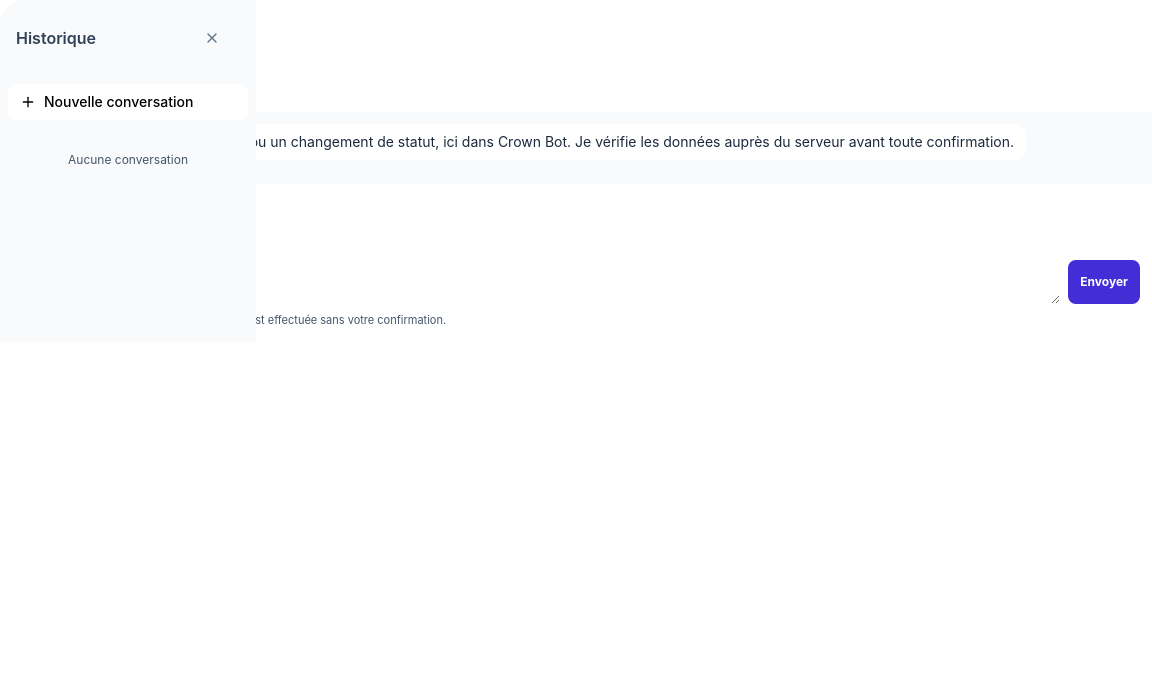
Test: CrownBot G9 reachable interaction truth › G5 appears in the ACTUAL CrownBotChat only when all four opt-ins are present
Type "Prépare un RDV demain 10h pour Mme Benali contrôle" into the text box named "Votre message à Crown Bot". click: (536, 276)
box: x1=12 y1=248 x2=1060 y2=304
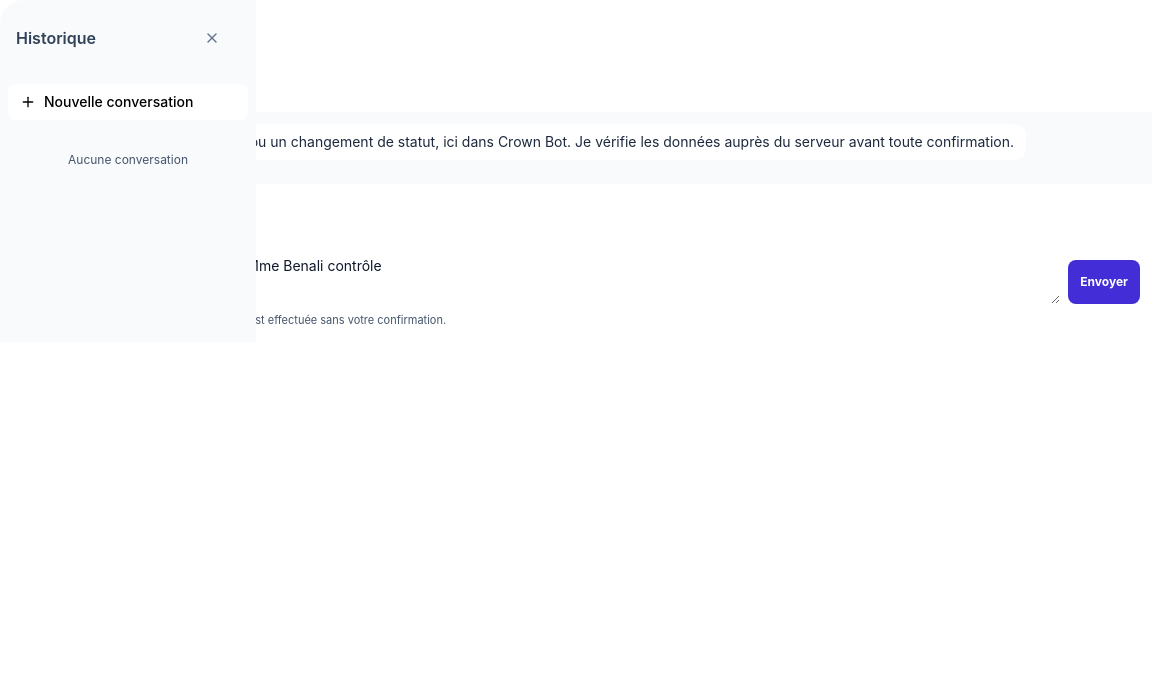
Click the button "Envoyer". click: (1104, 282)
box: x1=1068 y1=260 x2=1140 y2=304
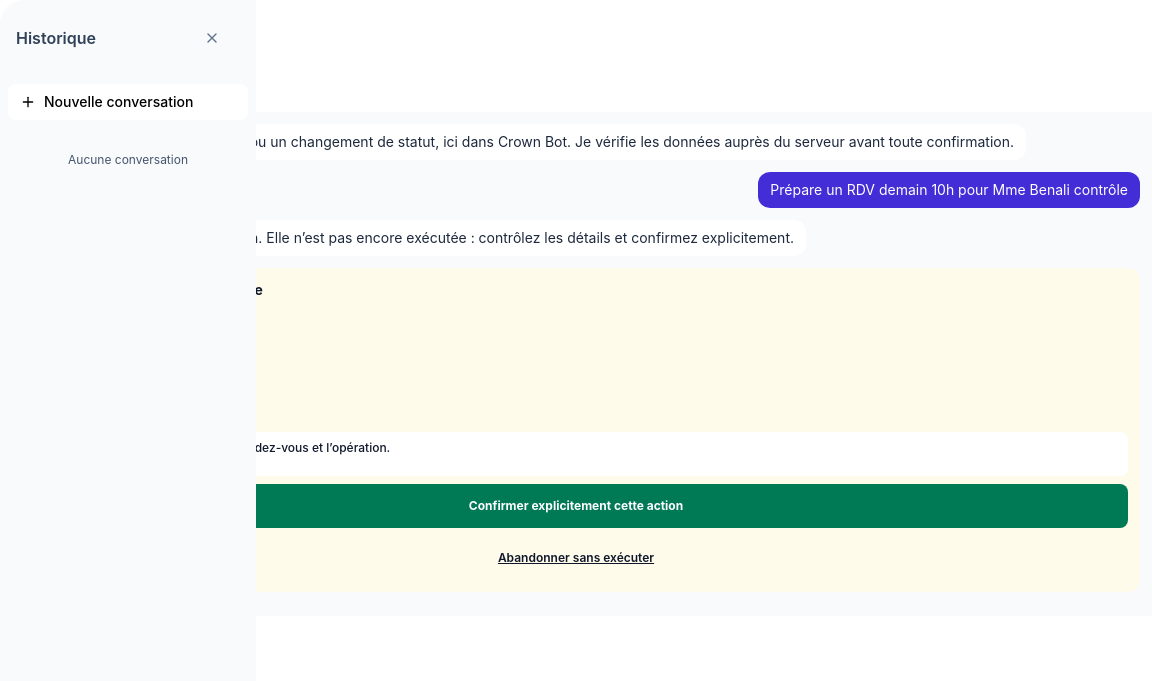
Check: the button "Confirmer explicitement cette action" is disabled, box x1=24 y1=484 x2=1128 y2=528
